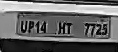1: (35, 19, 41, 36)
2: (96, 22, 102, 37)
4: (41, 21, 47, 34)
5: (101, 22, 108, 37)
7: (81, 20, 91, 38), (90, 20, 96, 37)
H: (57, 21, 67, 37)
P: (27, 21, 36, 36)
T: (66, 21, 75, 37)
U: (18, 20, 29, 34)
